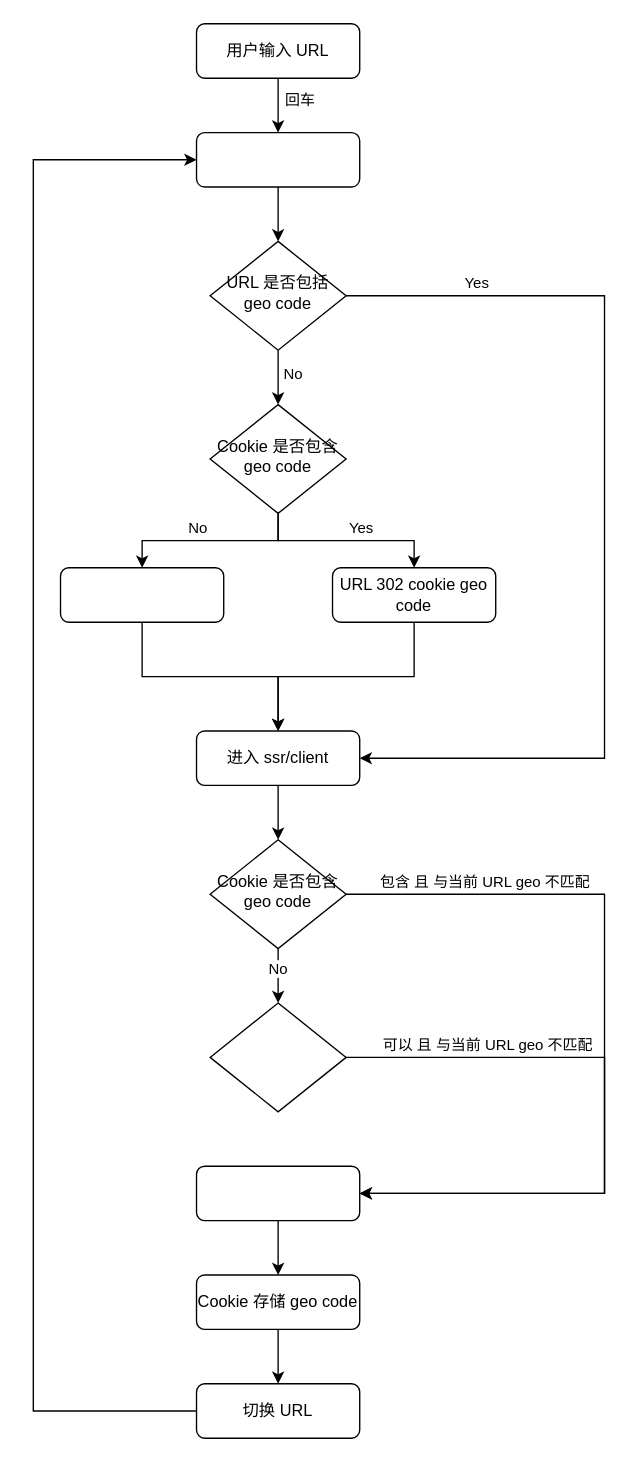
The diagram is 639 pixels wide and 1462 high, and some of its shapes have lost their labels. The centre of each missing label's shape, as x and y in pixels:
"URL 302 默认 geo code" goes at point (141, 594).
"提示用户切换 geo" goes at point (277, 1193).
"是否可以获取到navigator. language" goes at point (277, 1057).
"进入 ssr/server" goes at point (277, 159).
